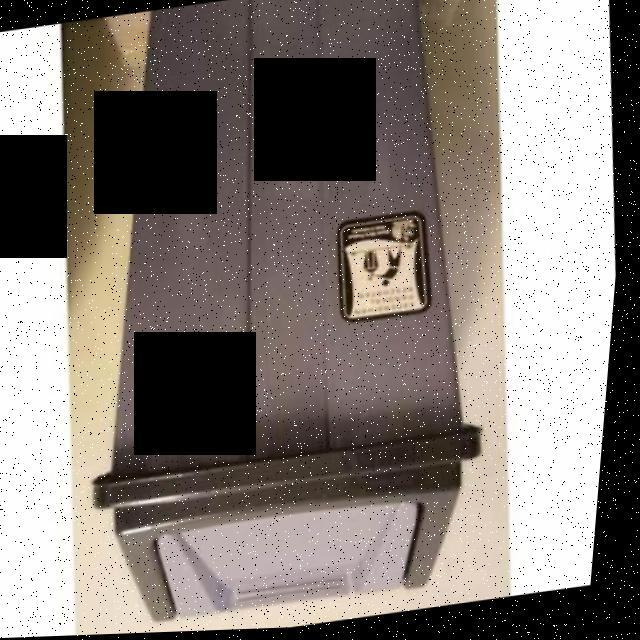bin: (19, 0, 561, 638)
